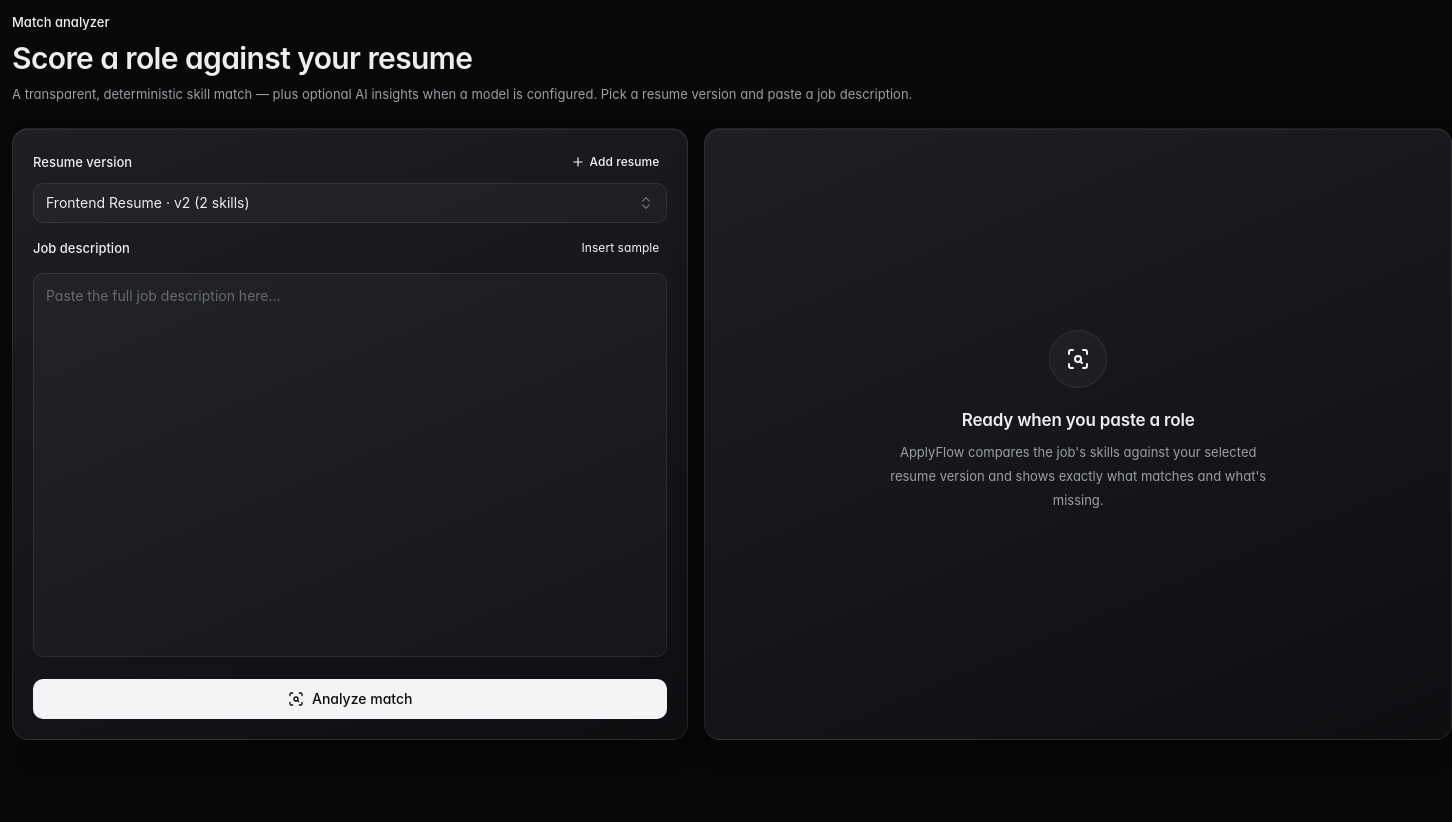
Test: AnalyzerWorkspace › shows an error state when the request fails
In the text box labelled "Job description": (350, 465) [33,273,667,657], type "We need a frontend engineer strong in React and TypeScript to build accessible UI at scale."
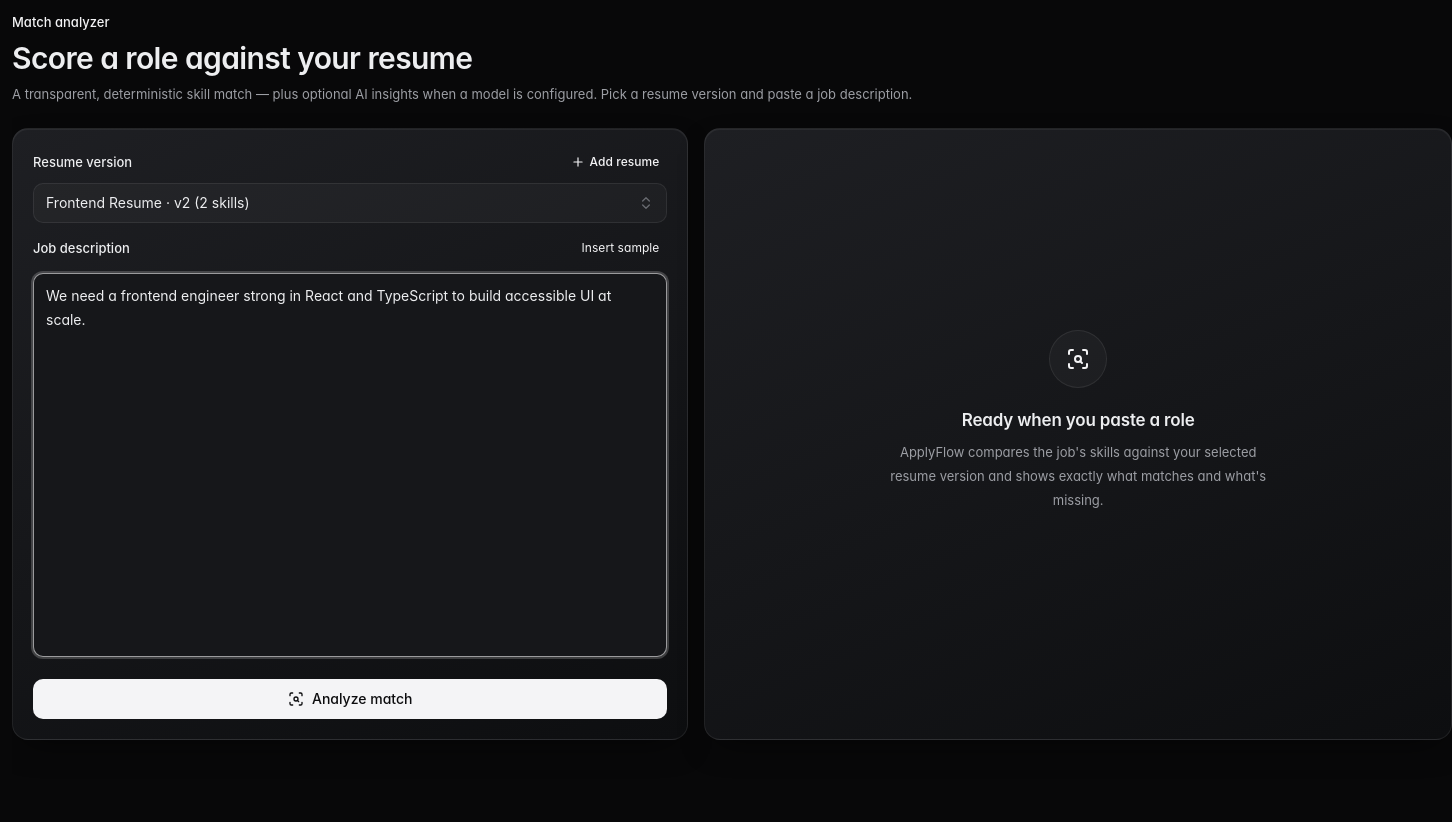
Click the button "Analyze match": (350, 699) [33,679,667,719]
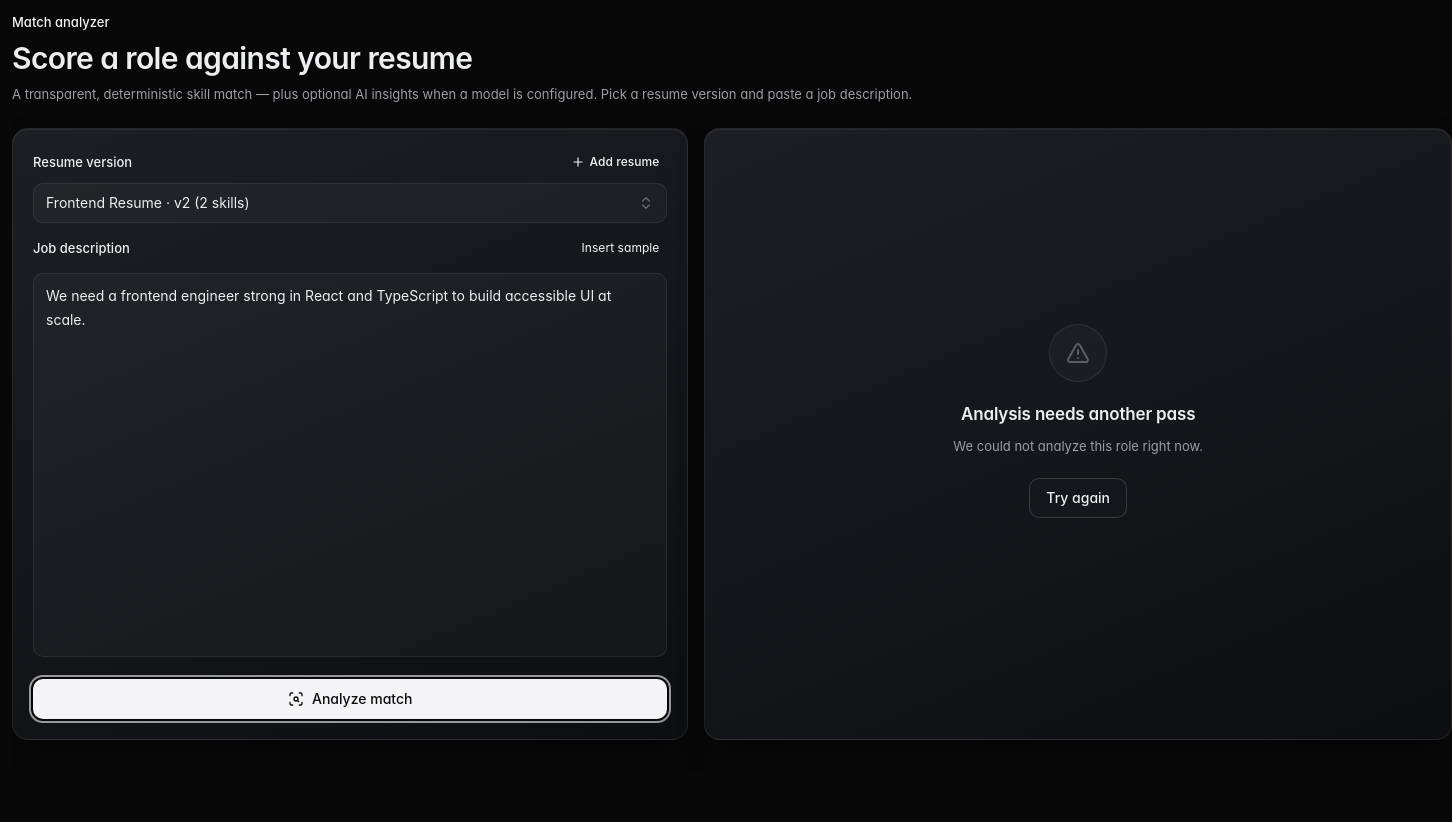
Result: the heading "Analysis needs another pass" is shown at [961,402,1195,426]
Result: the text "We could not analyze this role right now." is shown at [953,434,1203,458]
